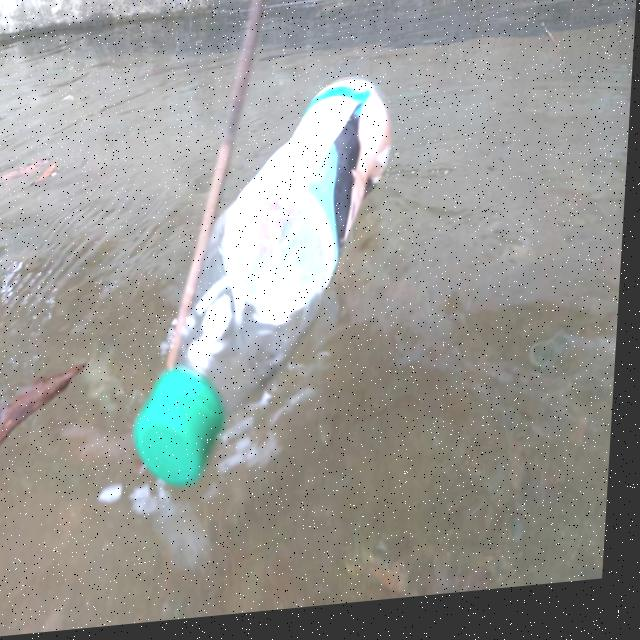waterbottle: (136, 72, 421, 491)
